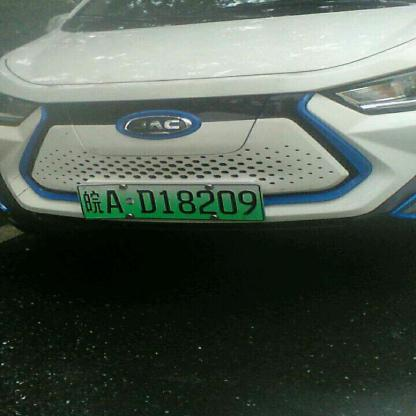lp: (77, 186, 264, 218)
